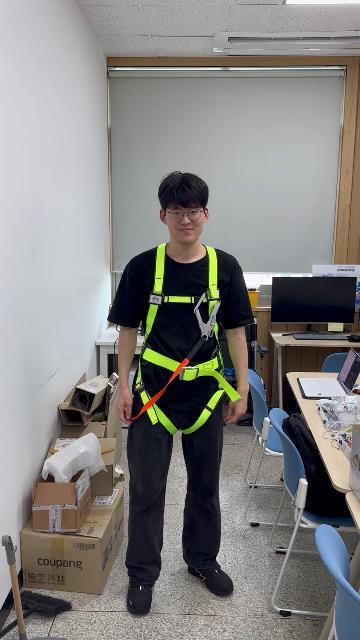helmet_not_worn: (157, 168, 210, 213)
shoe_worn: (186, 559, 238, 598), (124, 574, 158, 618)
vest_worn: (134, 244, 239, 435)
